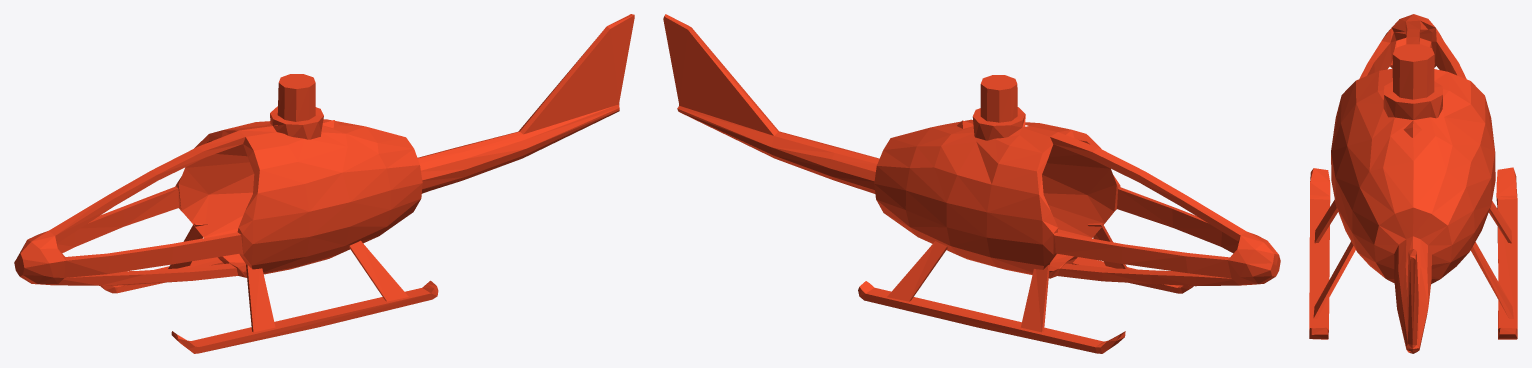
The model's file is VertilowRed.glb.
The picture shows the model from 3 angles, left to right: view 1: azimuth 30°, elevation 25°; view 2: azimuth 150°, elevation 25°; view 3: azimuth 270°, elevation 25°; orthographic projection. The views are drawn at different scales.
Visible parts, largest first — view 1: mesh_node; view 2: mesh_node; view 3: mesh_node.
Boxes of the visible parts, x1=… form: mesh_node: x1=14, y1=14, x2=634, y2=353; mesh_node: x1=663, y1=14, x2=1280, y2=353; mesh_node: x1=1309, y1=14, x2=1517, y2=353.
Bounding box in the file's own units: 1 × 0.3232 × 0.2578.
